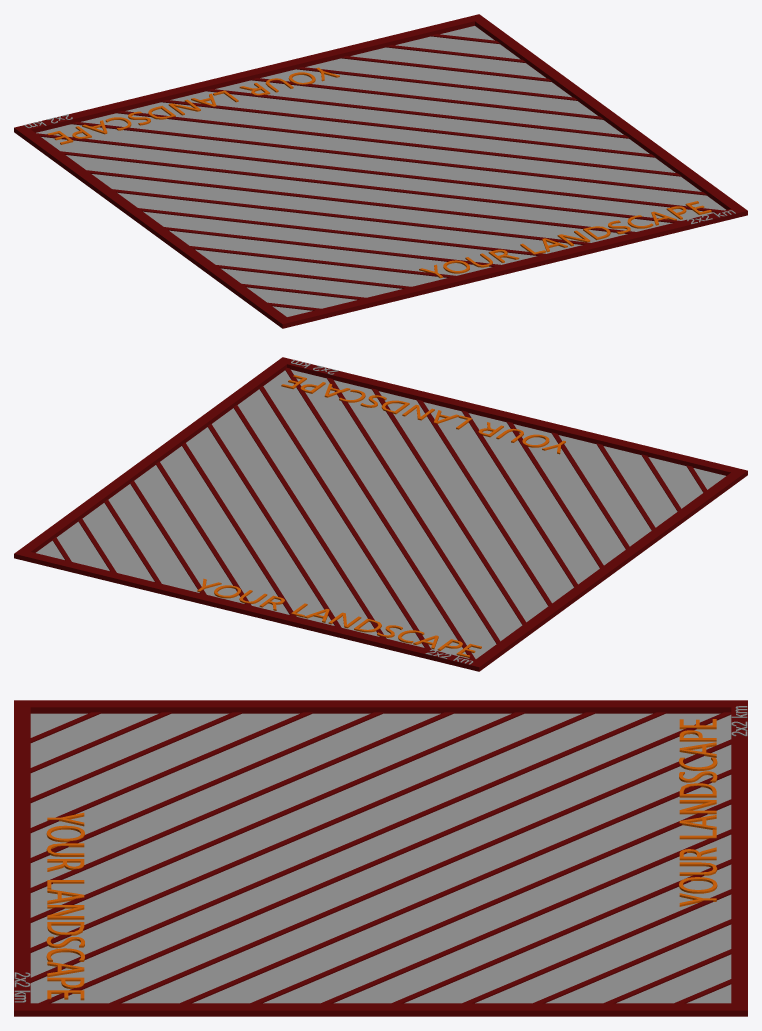
The model's file is template.FBX.
3 renders of one model, top to bottom at view 1: azimuth 30°, elevation 25°; view 2: azimuth 150°, elevation 25°; view 3: azimuth 270°, elevation 25°, orthographic. The views are drawn at different scales.
Parts seen in each view (by area): view 1: template; view 2: template; view 3: template.
Boxes of the visible parts, left/top/right/bottom form: template: left=14, top=14, right=747, bottom=328; template: left=14, top=357, right=747, bottom=671; template: left=14, top=700, right=747, bottom=1016.
Size of the model in its own units: 105119 by 105119 by 1077.
